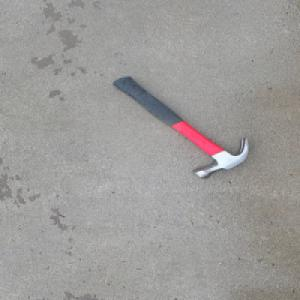Hammer: (112, 77, 251, 180)
